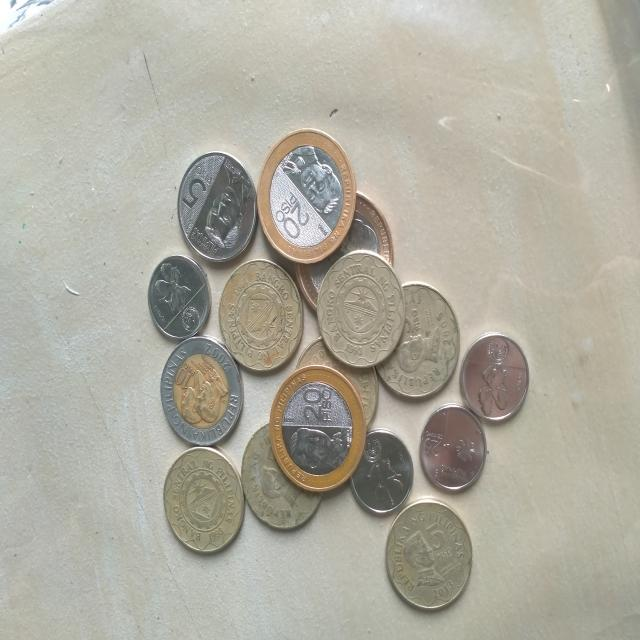10_Old_Front: (173, 356, 198, 394)
20_New_Front: (273, 191, 309, 240), (301, 384, 336, 426)
25Cent_New_Back: (367, 442, 405, 510), (472, 361, 512, 417), (155, 260, 191, 312)
25Cent_New_Front: (420, 422, 446, 463)
5_New_Front: (181, 162, 218, 215)
5_Old_Back: (317, 252, 402, 365), (218, 262, 304, 373)
5_Old_Front: (426, 521, 453, 562)
